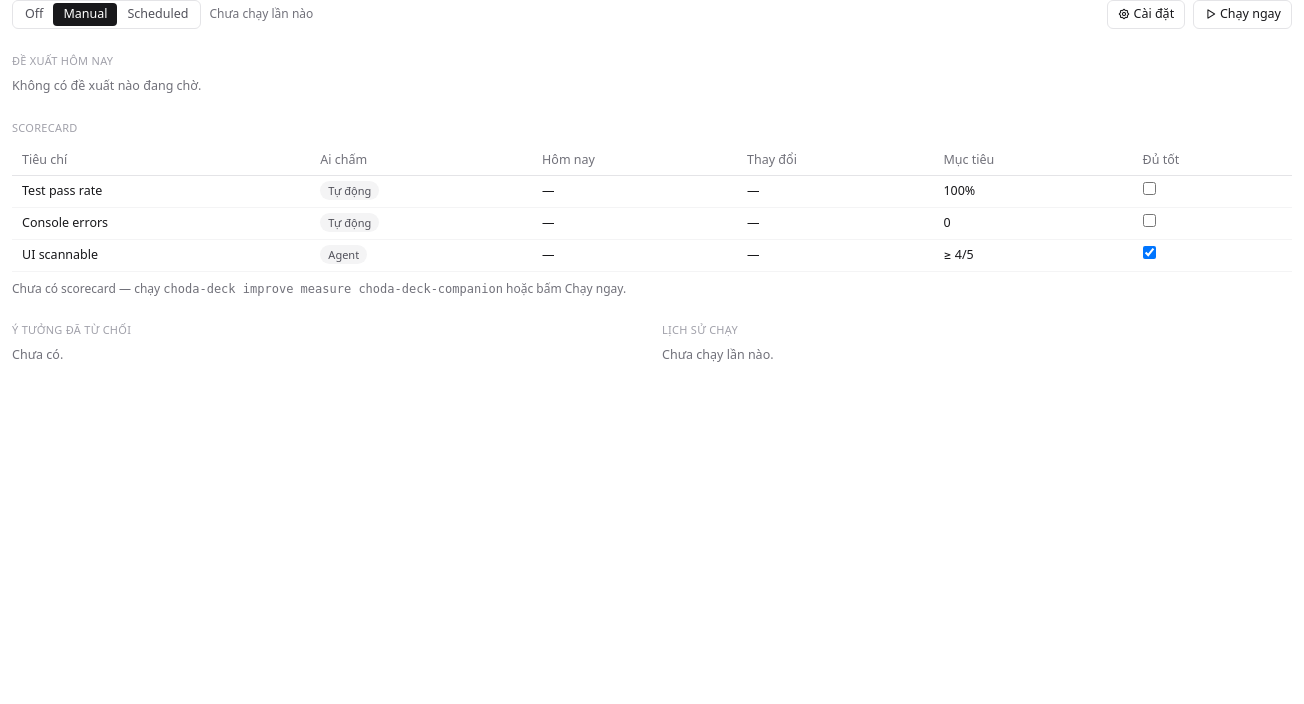
Test: ImproveSettings (TASK-2360) › AC-2: a 400 for "criteria[1].target" shows its message under row 2's target input and nowhere else
Click the button with test id "improve-open-settings".
click(1146, 14)  # box [1107,0,1185,29]
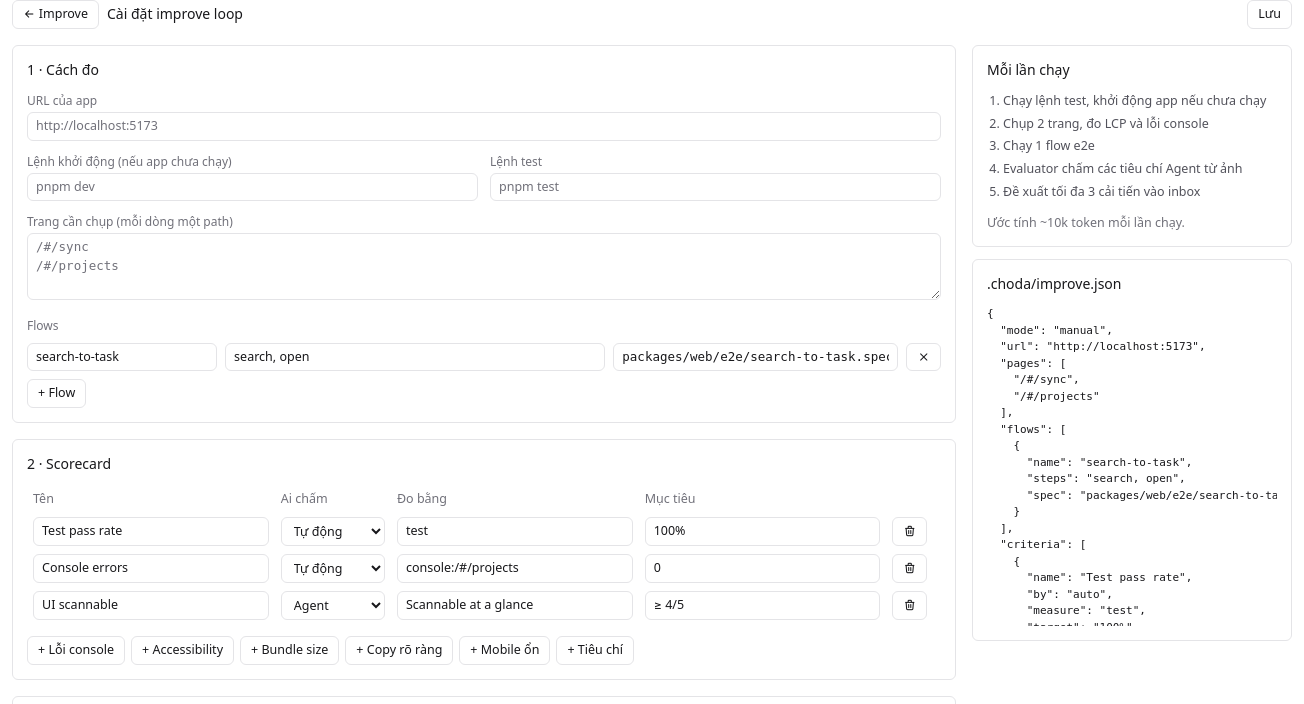
Clear the field with test id "improve-crit-target-1" at (763, 568), box [645,554,880,583]
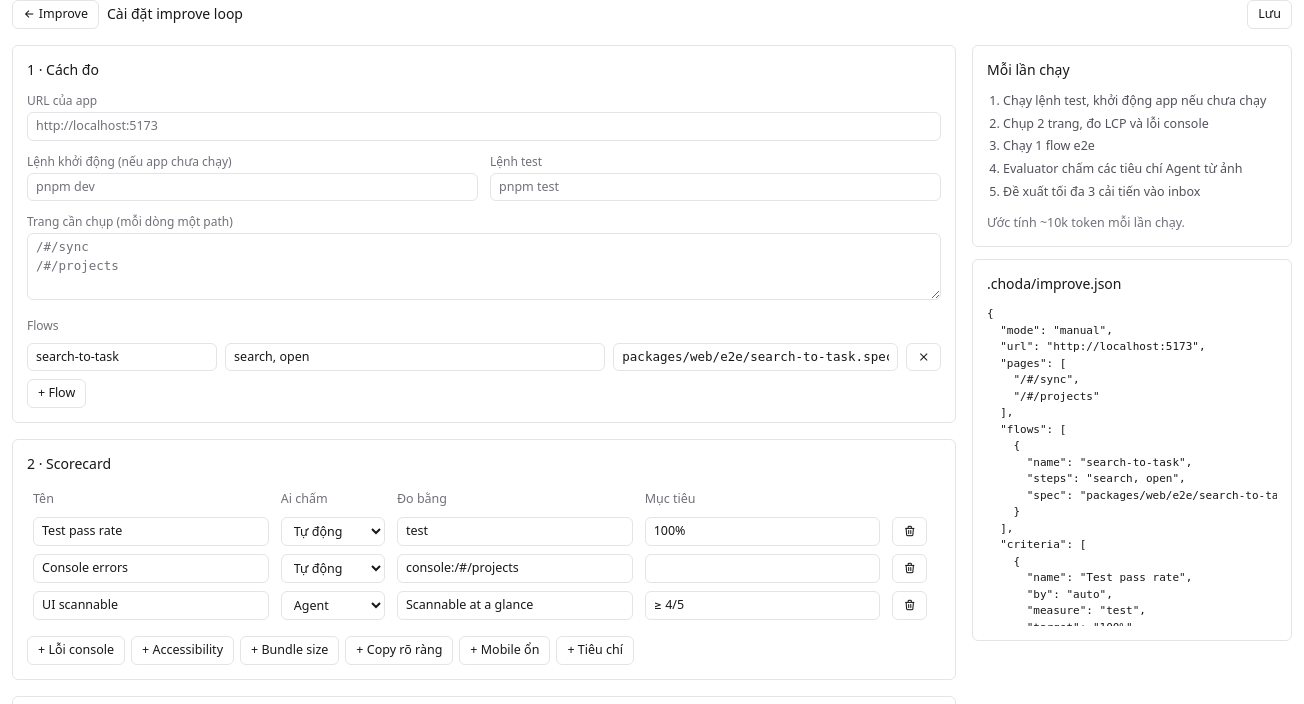
Click the button with test id "improve-settings-save".
click(1270, 14)  # box [1247,0,1292,29]
(page scrolled)
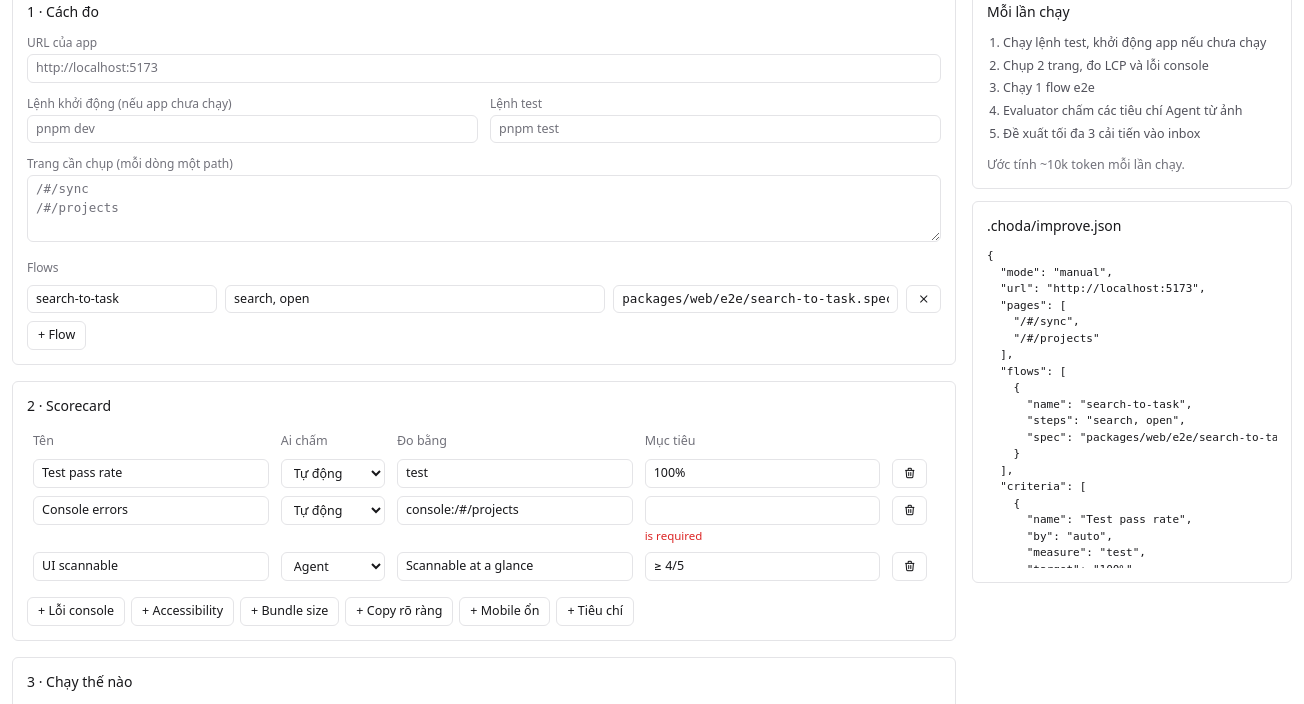
Now the message with test id "improve-crit-target-error-1" reads "is required", box [645,528,702,542]
Now the number of messages is 1, box [645,528,702,542]
